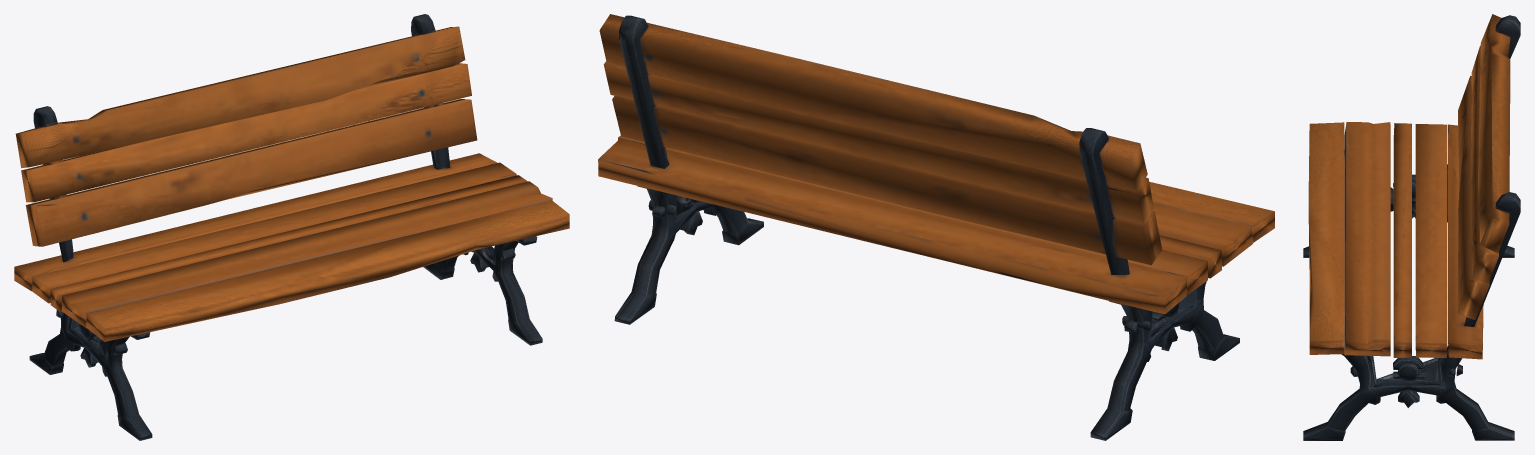
The model's file is bench.glb.
The picture shows the model from 3 angles, left to right: view 1: azimuth 30°, elevation 25°; view 2: azimuth 150°, elevation 25°; view 3: azimuth 270°, elevation 25°; orthographic projection. The views are drawn at different scales.
Size of the model in its own units: 0.9575 by 0.4902 by 0.4019.
Materials: 1 (1 with a texture image).
